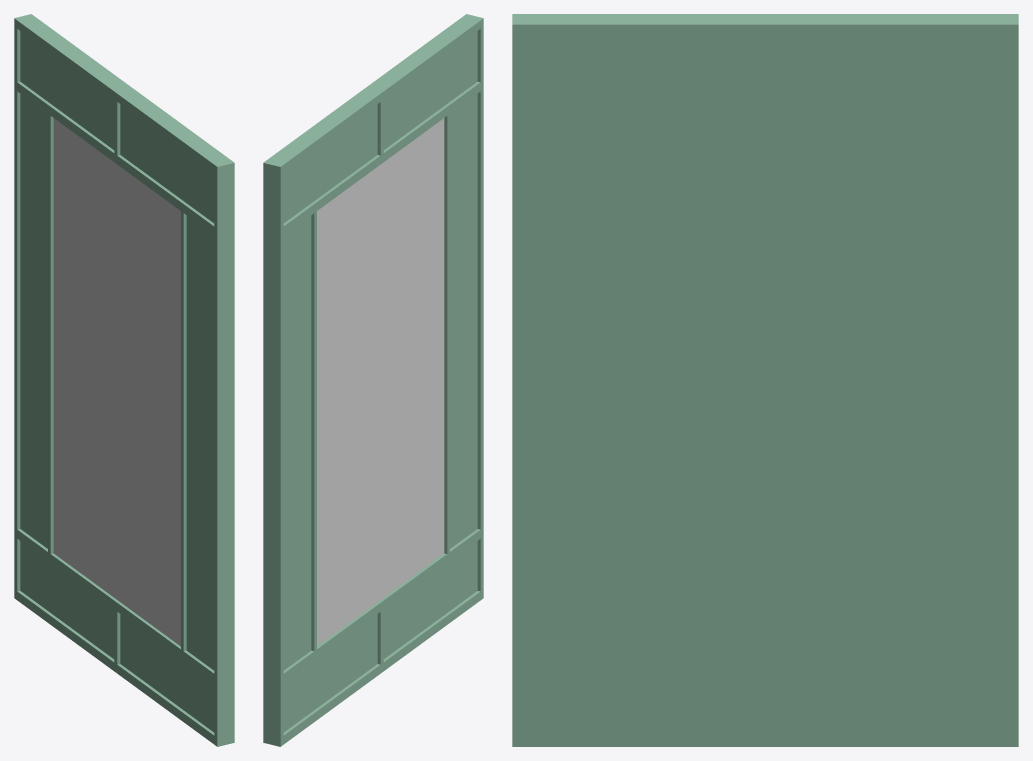
File: KOHLER2460T.FBX
The picture shows the model from 3 angles, left to right: view 1: azimuth 30°, elevation 25°; view 2: azimuth 150°, elevation 25°; view 3: azimuth 270°, elevation 25°; orthographic projection. The views are drawn at different scales.
Visible parts, largest first — view 1: KOHLER2460T; view 2: KOHLER2460T; view 3: KOHLER2460T.
Part boxes in pixels (x1,y1,x2,y2): KOHLER2460T: [14, 14, 234, 746]; KOHLER2460T: [263, 14, 483, 746]; KOHLER2460T: [512, 14, 1018, 746].
Bounding box in the file's own units: 3 × 61 × 96.
